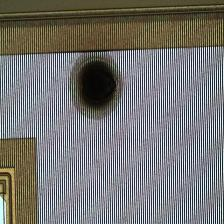PARTICLE: (66, 50, 131, 124)
